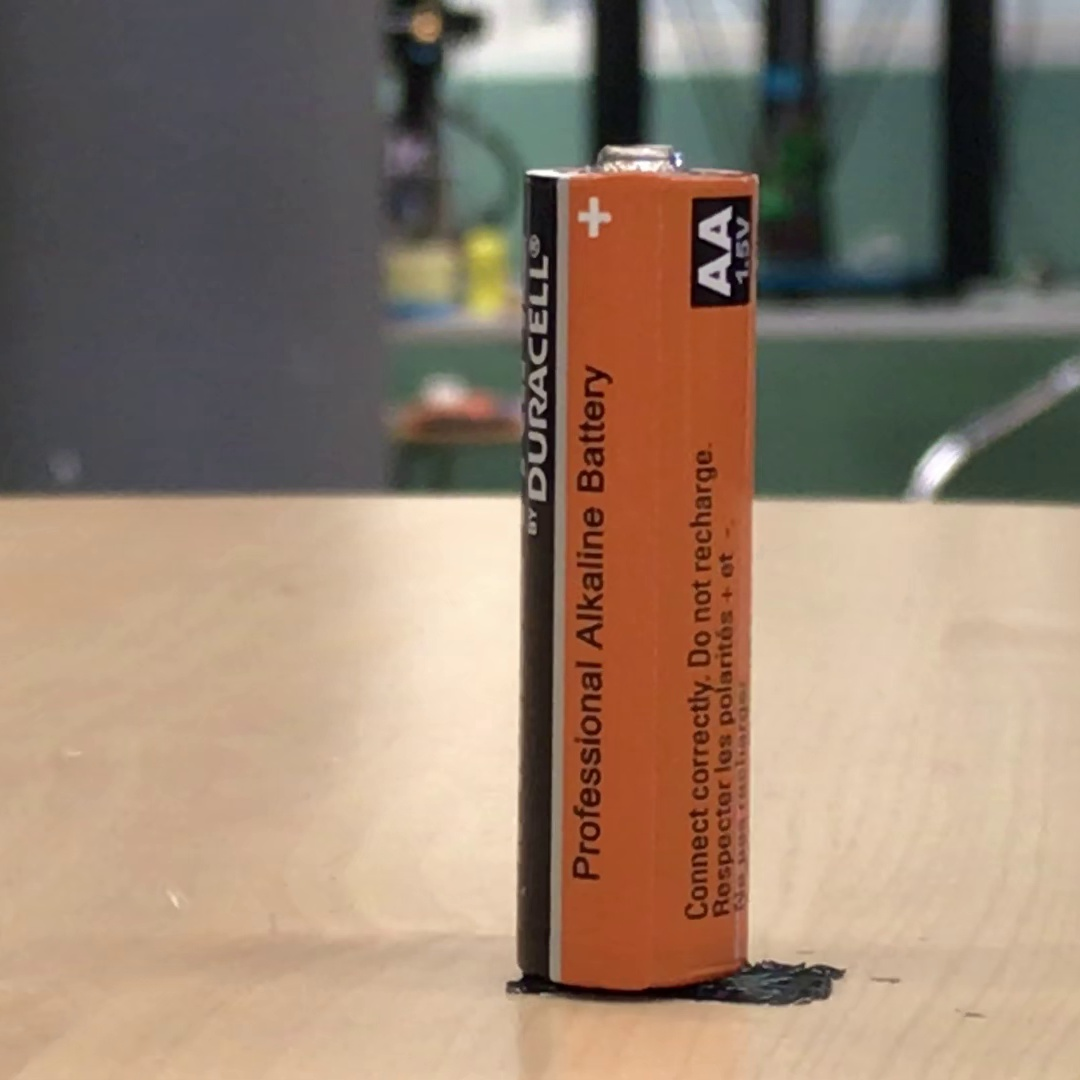keyword: (566, 592, 613, 660)
